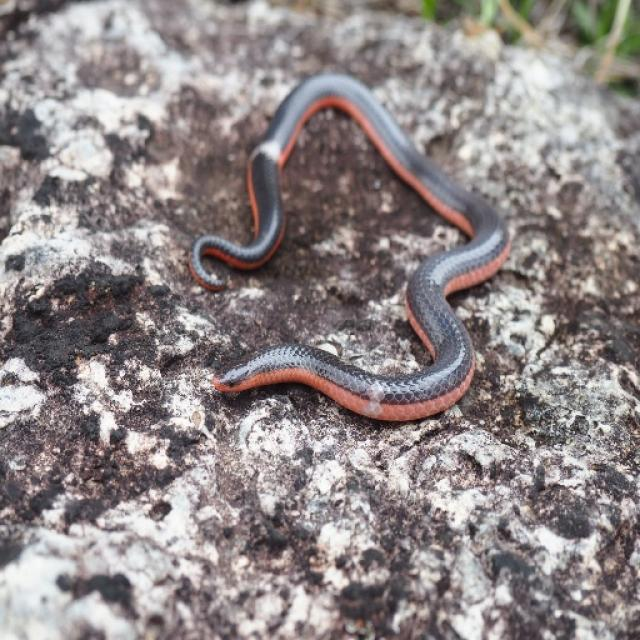snake: (173, 57, 529, 442)
